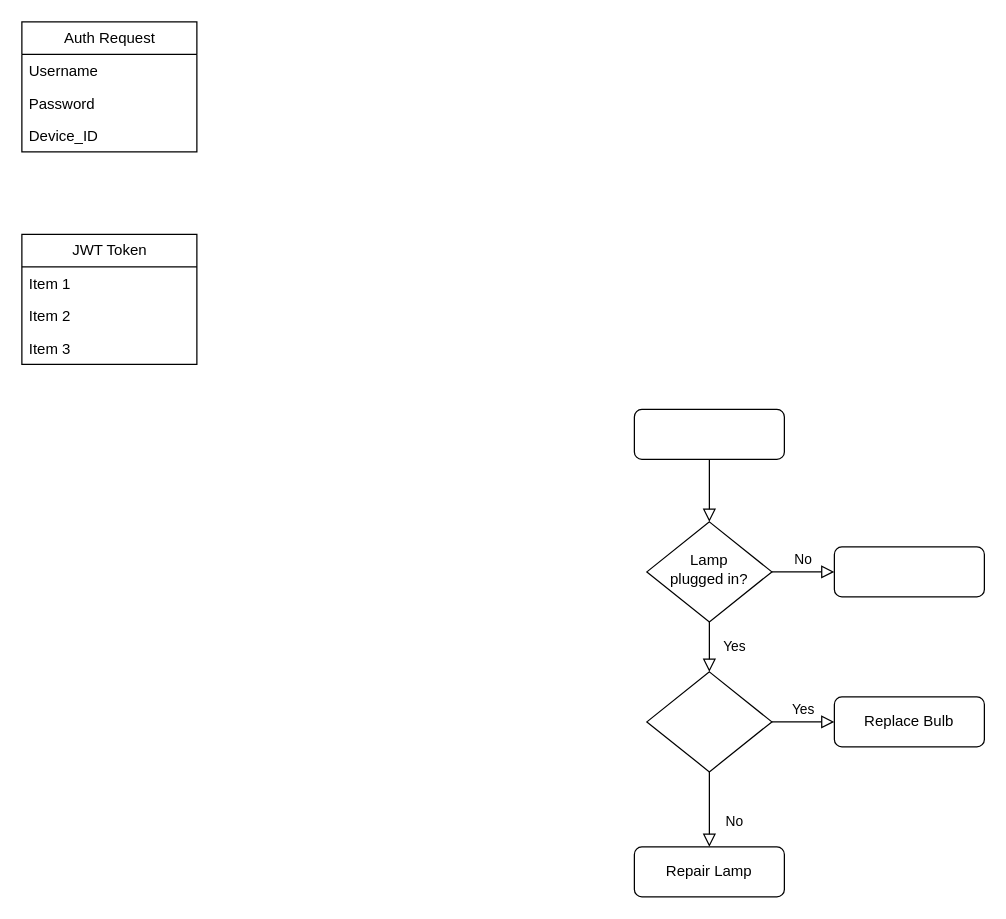
The diagram is 1006 pixels wide and 919 high, and some of its shapes have lost their labels. Each missing label, with the centre of its shape:
"Bulb burned out?" belongs at point (709, 721).
"Lamp doesn't work" belongs at point (708, 433).
"Plug in lamp" belongs at point (908, 571).
